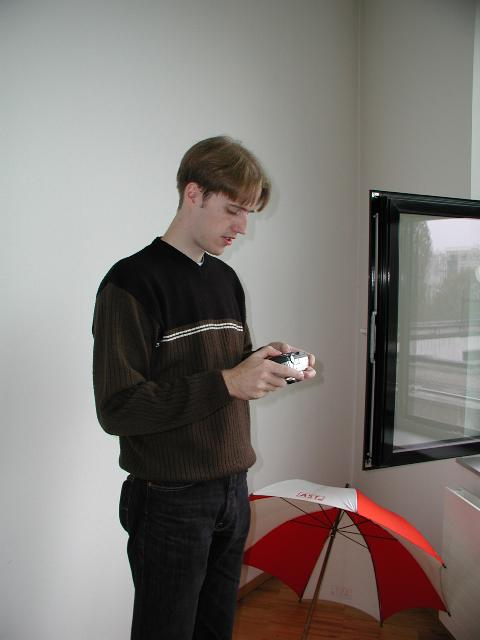Person: (92, 134, 317, 640)
